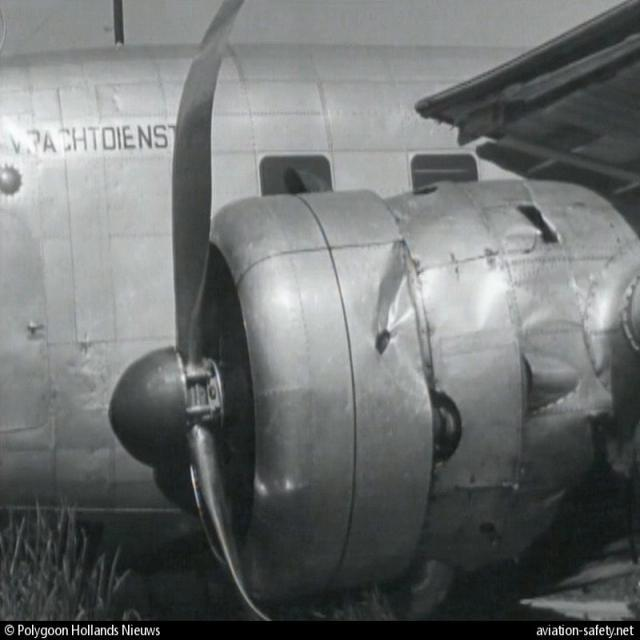dent: (372, 262, 423, 339)
